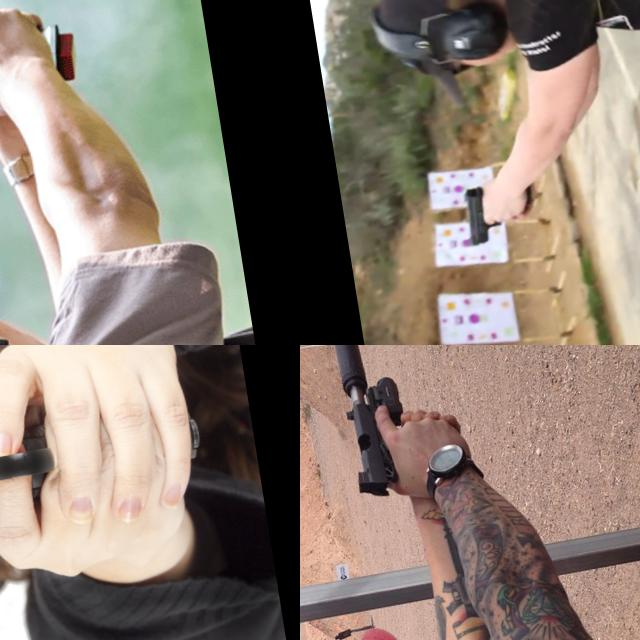handgun: (0, 415, 101, 530), (336, 373, 416, 504), (0, 0, 48, 134), (458, 180, 506, 248)
